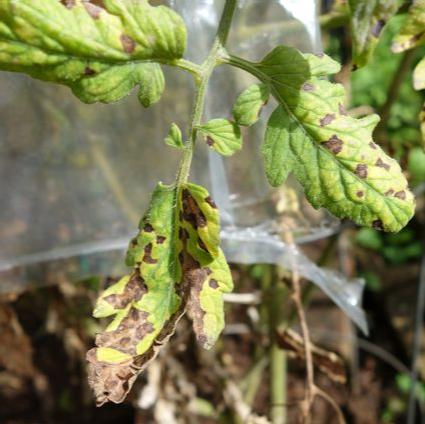Tomato Septoria leaf spot: (77, 174, 232, 420), (236, 41, 421, 238), (1, 1, 194, 108)
